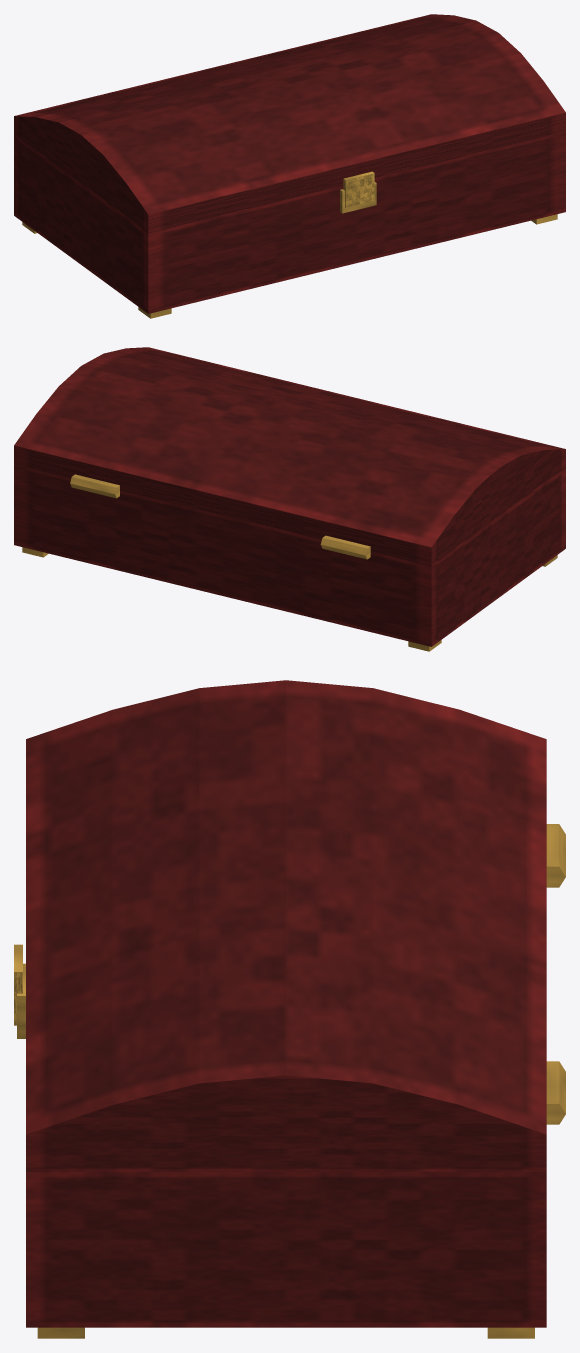
File: SheepKeyCase.fbx
The picture shows the model from 3 angles, top to bottom: view 1: azimuth 30°, elevation 25°; view 2: azimuth 150°, elevation 25°; view 3: azimuth 270°, elevation 25°; orthographic projection. The views are drawn at different scales.
Visible parts, largest first — view 1: Case_Lid, Case_Base; view 2: Case_Lid, Case_Base; view 3: Case_Lid, Case_Base.
Part boxes in pixels (x1=…): Case_Lid: x1=14, y1=14, x2=565, y2=233; Case_Base: x1=14, y1=132, x2=565, y2=318; Case_Lid: x1=14, y1=347, x2=565, y2=566; Case_Base: x1=14, y1=465, x2=565, y2=651; Case_Lid: x1=14, y1=680, x2=546, y2=1171; Case_Base: x1=17, y1=824, x2=565, y2=1338.
Size of the model in its own units: 0.316 by 0.1 by 0.1865.
Materials: 1 (1 with a texture image).
